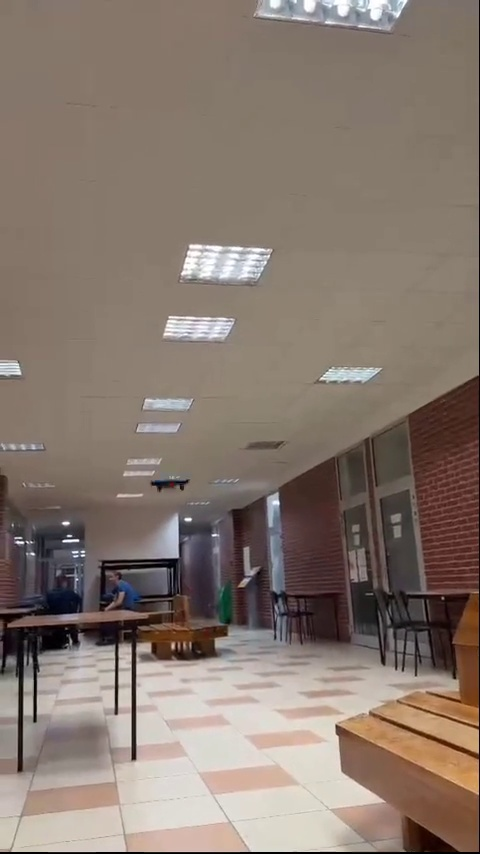drone: (148, 476, 194, 498)
no vest: (104, 570, 139, 610), (43, 574, 82, 608)
